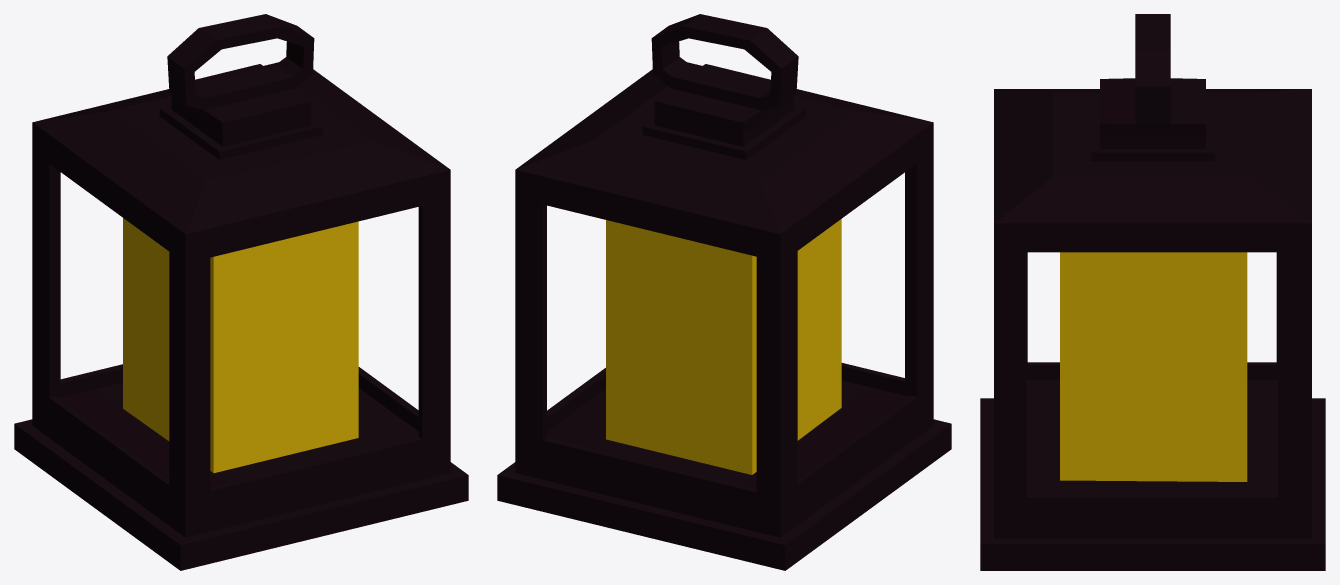
Rendered from Lampara.fbx.
3 renders of one model, left to right at view 1: azimuth 30°, elevation 25°; view 2: azimuth 150°, elevation 25°; view 3: azimuth 270°, elevation 25°, orthographic. The views are drawn at different scales.
Visible parts, largest first — view 1: Lampara; view 2: Lampara; view 3: Lampara.
Part boxes in pixels (<box>): Lampara: <box>14,14,468,570</box>; Lampara: <box>497,14,951,570</box>; Lampara: <box>980,14,1325,570</box>.
Bounding box in the file's own units: 982 × 1463 × 982.
